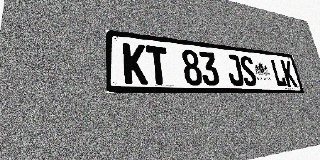3: (198, 51, 220, 86)
8: (181, 49, 203, 85)
J: (225, 54, 245, 86)
K: (123, 43, 148, 84), (280, 60, 298, 87)
L: (270, 59, 287, 87)
S: (239, 55, 258, 86)
T: (146, 45, 170, 85)
